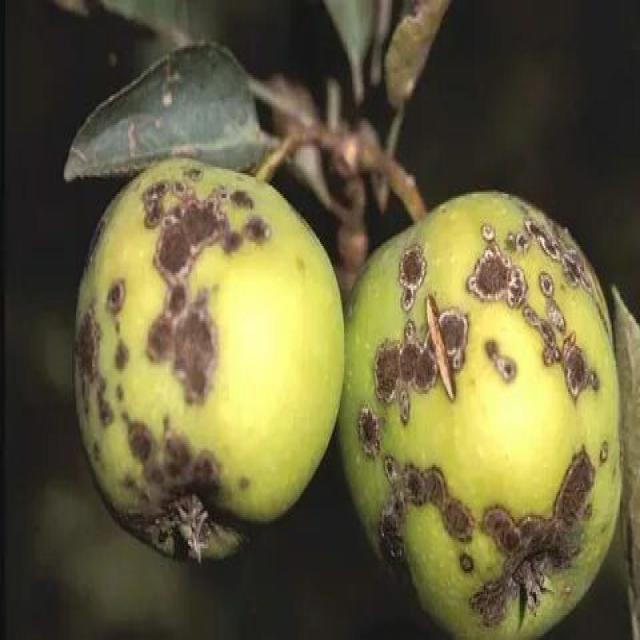Rotten Apple: (347, 194, 621, 640), (68, 158, 348, 570)
